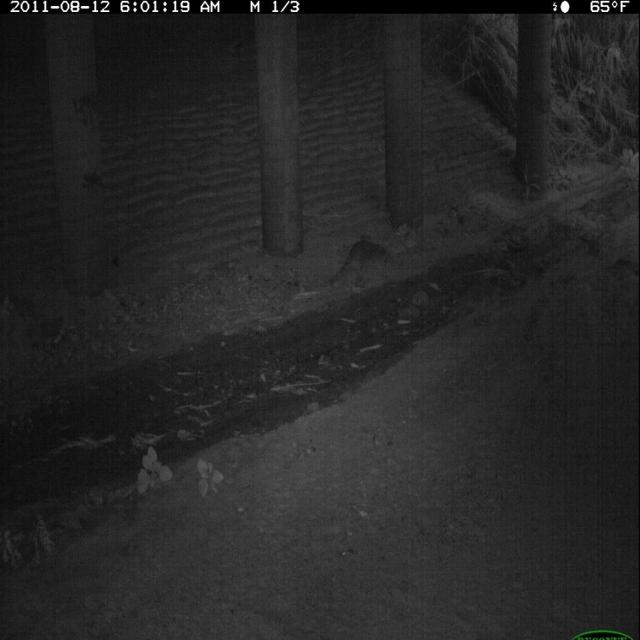raccoon: (323, 234, 397, 303)
